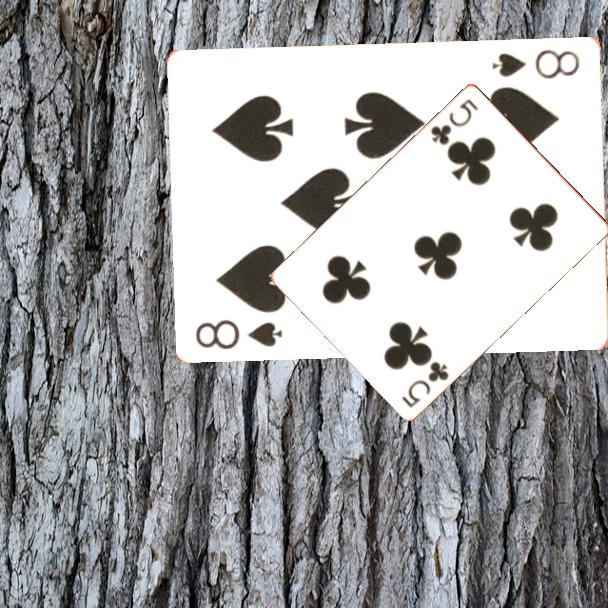c05: (398, 357, 452, 411), (427, 95, 481, 148)
s08: (193, 315, 286, 352), (488, 45, 583, 81)
